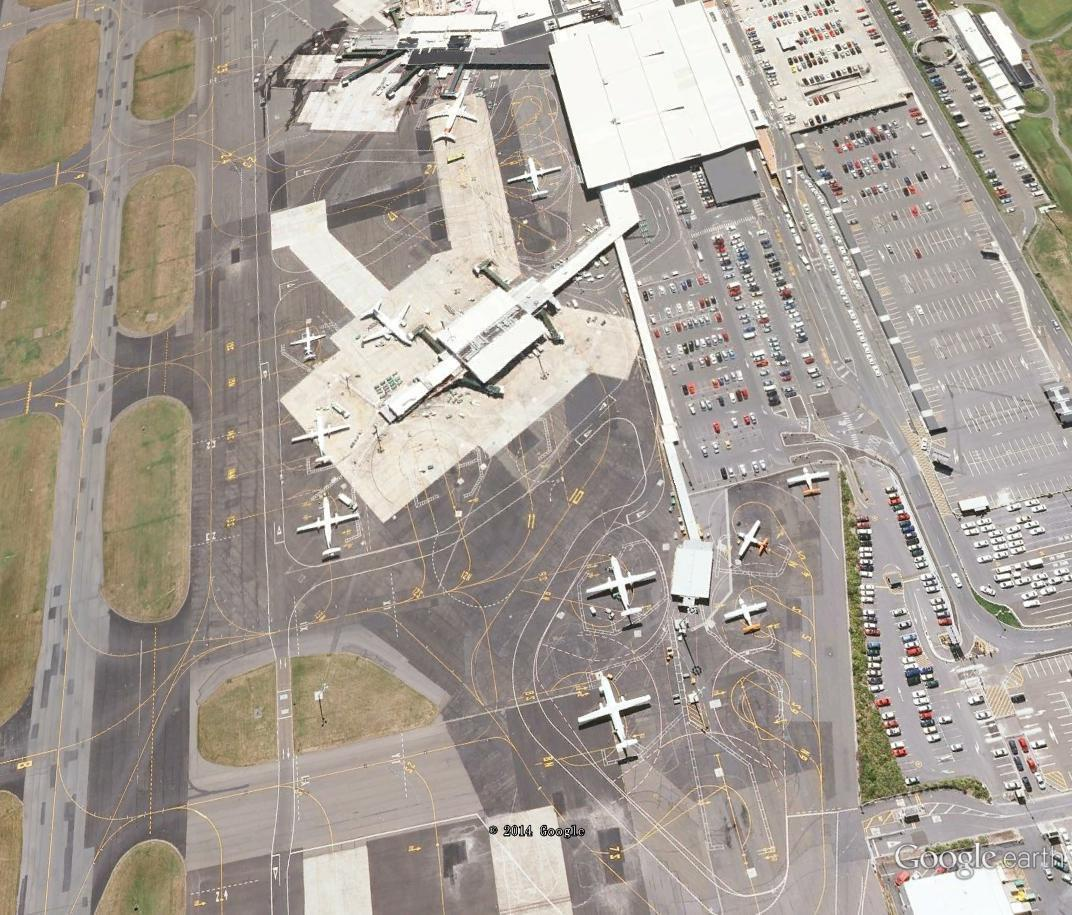aircraft: (574, 666, 658, 756), (574, 549, 660, 624), (292, 487, 370, 564), (286, 411, 358, 471), (422, 87, 485, 151), (355, 298, 421, 352), (503, 151, 567, 205), (780, 459, 840, 505), (720, 595, 774, 639), (286, 321, 331, 366), (732, 516, 774, 562)
